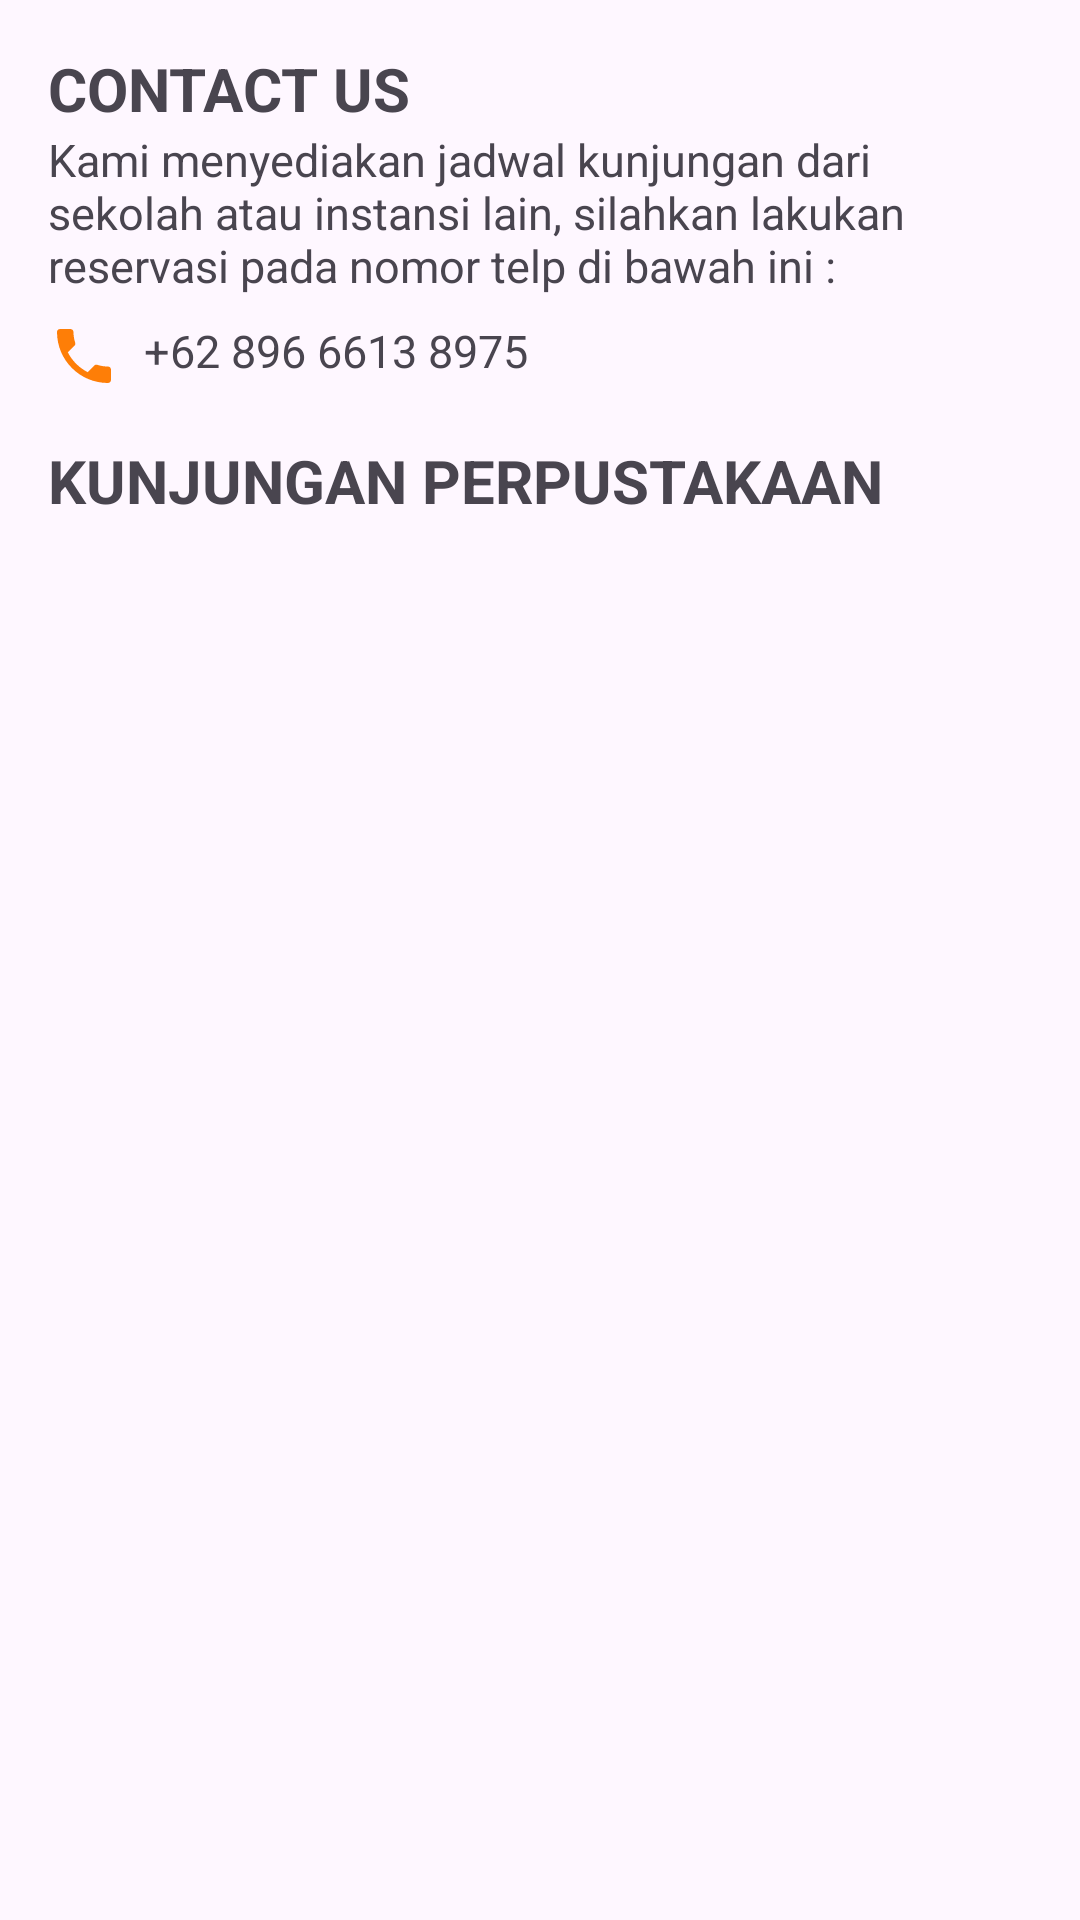

Point at icon controls on the screen. Image size 1080×1920, points as (x=x, y=y).
local phone: (x=84, y=356)
